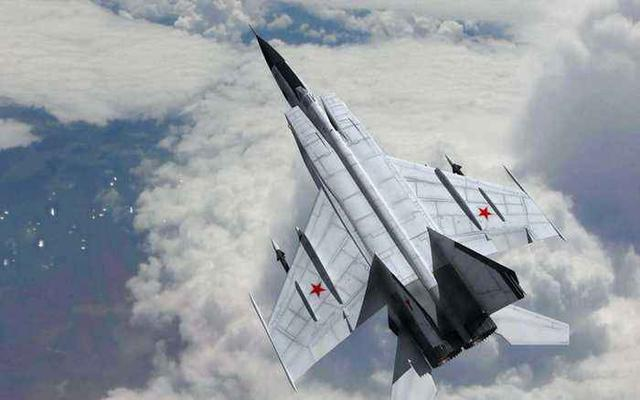airplane: (233, 19, 576, 400)
